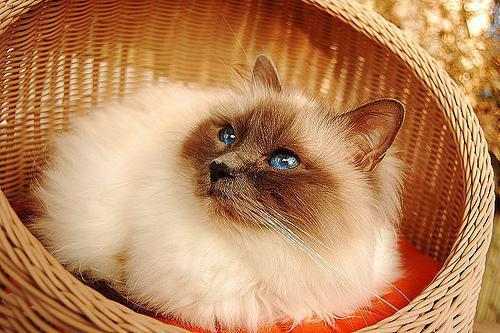cat: (39, 54, 404, 333)
